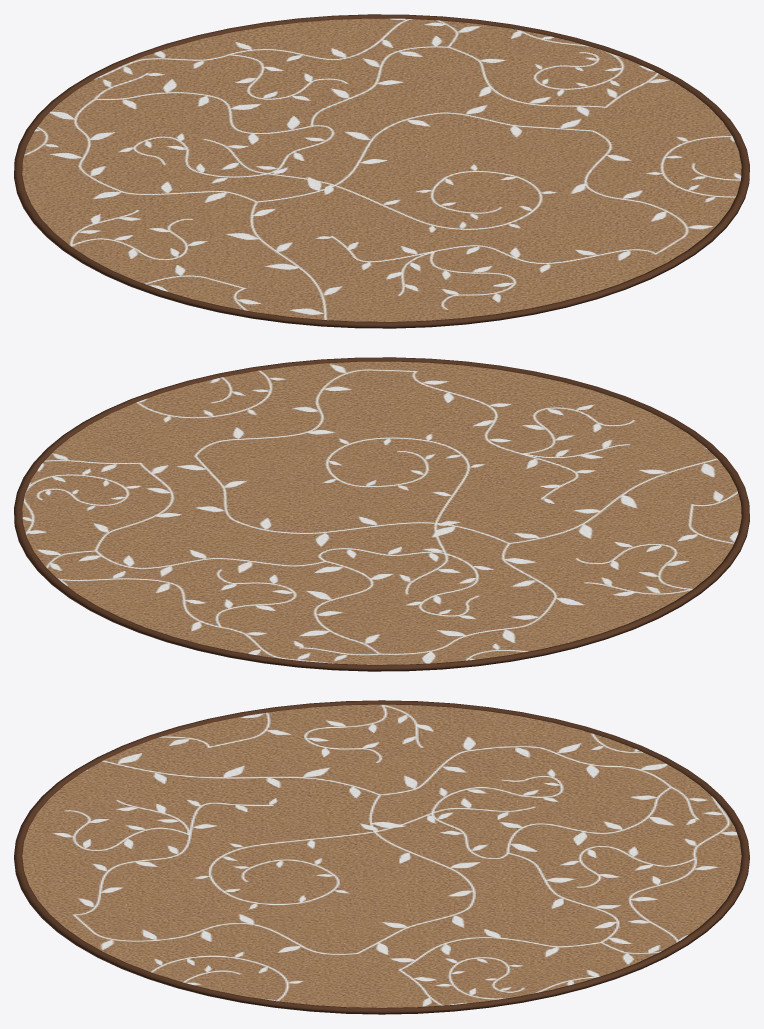
File: round_carpet.glb
3 views of the same model, one above another, from view 1: azimuth 30°, elevation 25°; view 2: azimuth 150°, elevation 25°; view 3: azimuth 270°, elevation 25° (orthographic).
Visible parts, largest first — view 1: Object_2, Object_3; view 2: Object_2, Object_3; view 3: Object_2, Object_3.
Boxes of the visible parts, x1,y1,x2,y2 form: Object_2: (22, 18, 741, 321); Object_3: (14, 14, 749, 328); Object_2: (22, 361, 741, 664); Object_3: (14, 357, 749, 671); Object_2: (22, 704, 741, 1007); Object_3: (14, 700, 749, 1014).
Bounding box in the file's own units: 80 × 0.521 × 80.
Materials: 2 (1 with a texture image).
